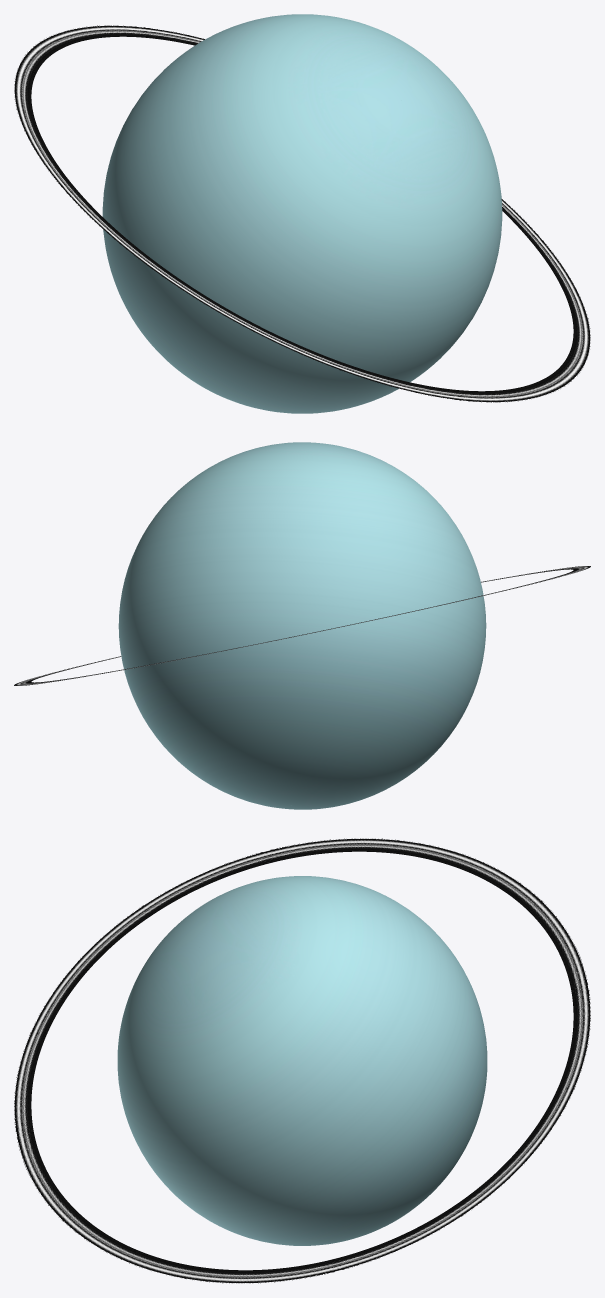
The model's file is scene_uranus.gltf.
The picture shows the model from 3 angles, top to bottom: view 1: azimuth 30°, elevation 25°; view 2: azimuth 150°, elevation 25°; view 3: azimuth 270°, elevation 25°; orthographic projection. The views are drawn at different scales.
Visible parts, largest first — view 1: Sphere, Circle; view 2: Sphere, Circle; view 3: Sphere, Circle.
Boxes of the visible parts, x1=… form: Sphere: x1=102, y1=14, x2=502, y2=413; Circle: x1=14, y1=25, x2=590, y2=402; Sphere: x1=118, y1=442, x2=486, y2=809; Circle: x1=14, y1=566, x2=590, y2=685; Sphere: x1=117, y1=876, x2=487, y2=1245; Circle: x1=14, y1=838, x2=590, y2=1283.
Size of the model in its own units: 1780 by 1194 by 1862.
Materials: 2 (2 with a texture image).
